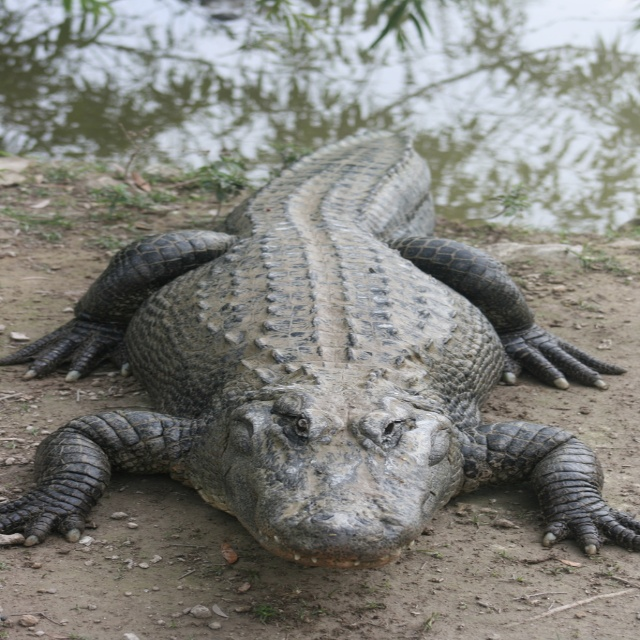Crocodile: (0, 126, 635, 569)
